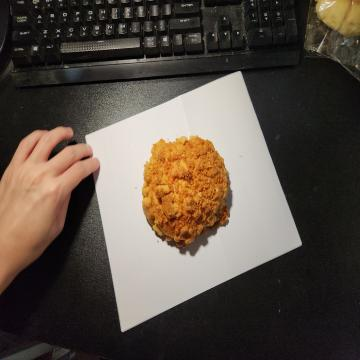soboru_bread: (143, 135, 229, 247)
